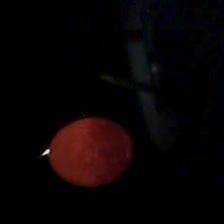infertile: (44, 116, 134, 188)
